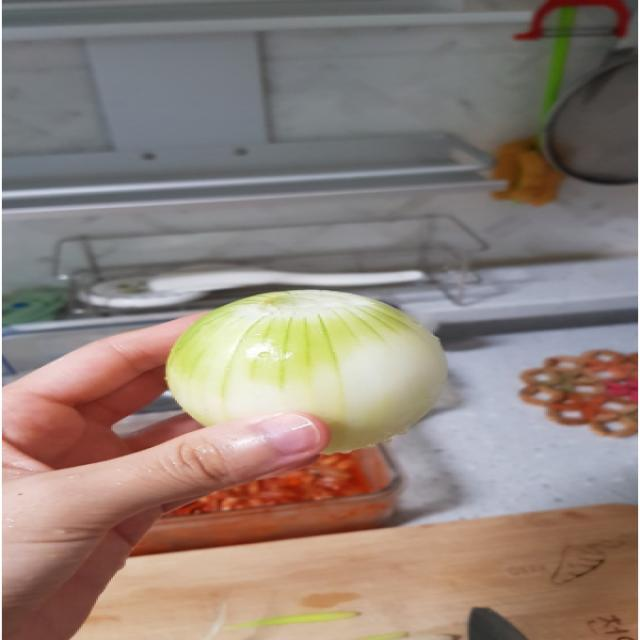onion: (142, 264, 492, 486)
